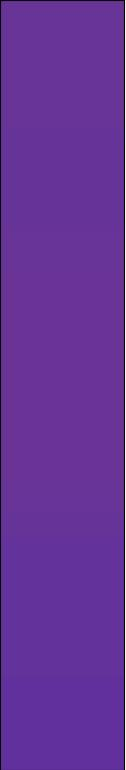safe: (11, 10, 110, 754)
